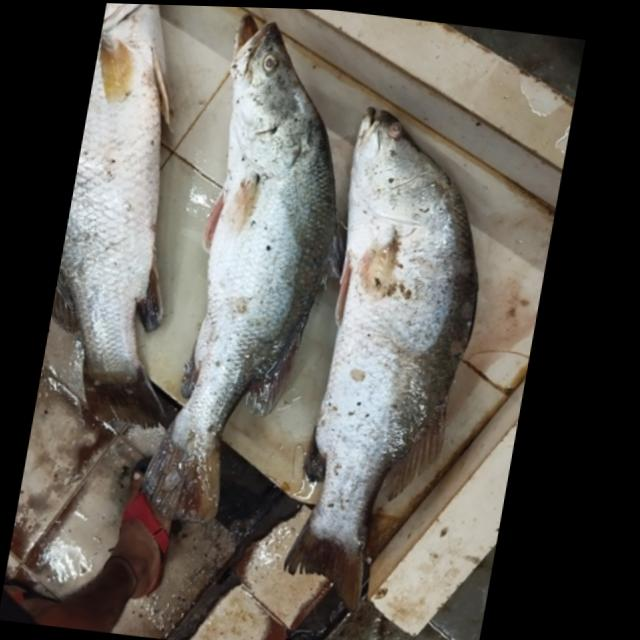Seabass: (133, 9, 379, 537), (273, 101, 513, 624), (31, 2, 247, 435)
